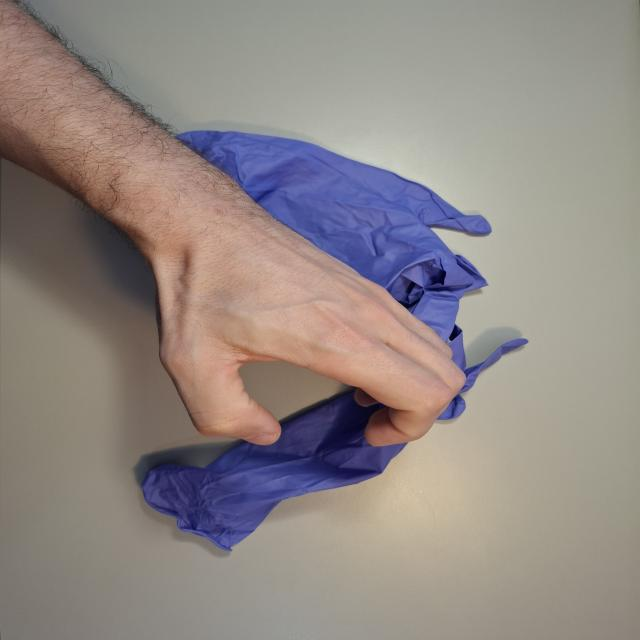glove_off: (140, 212, 468, 449)
